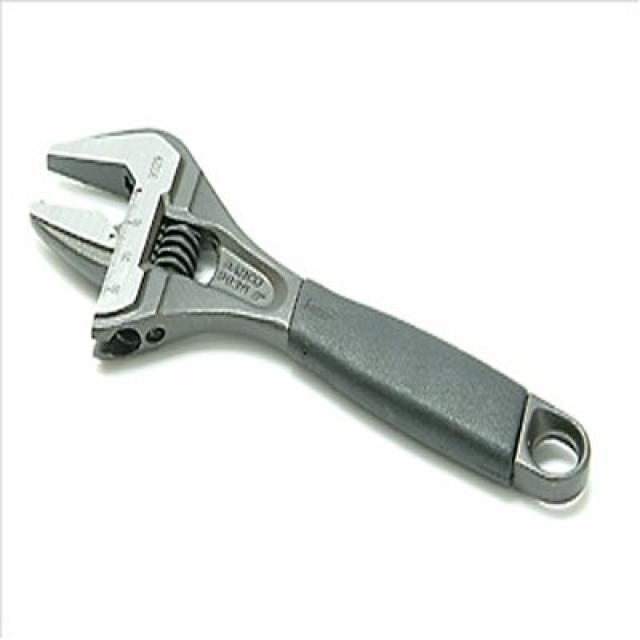wrench: (13, 113, 640, 542)
